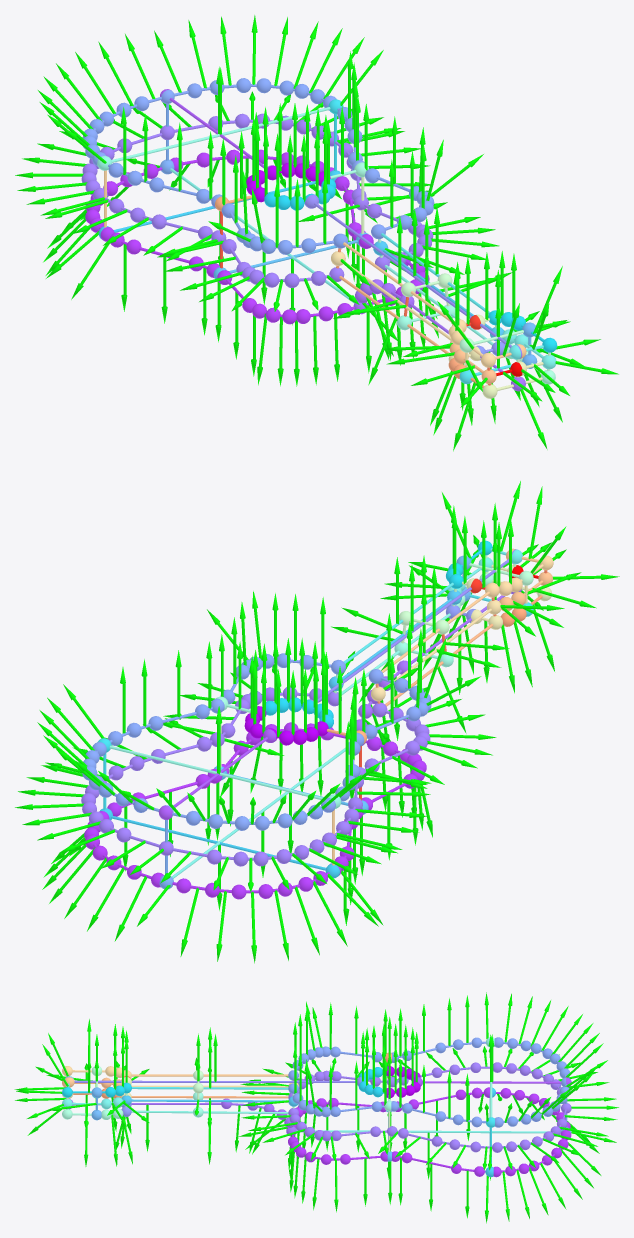
Rendered from t2f_guitar.gltf.
3 renders of one model, top to bottom at view 1: azimuth 30°, elevation 25°; view 2: azimuth 150°, elevation 25°; view 3: azimuth 270°, elevation 25°, orthographic. The views are drawn at different scales.
Bounding box in the file's own units: 0.5511 × 0.3039 × 1.13.
